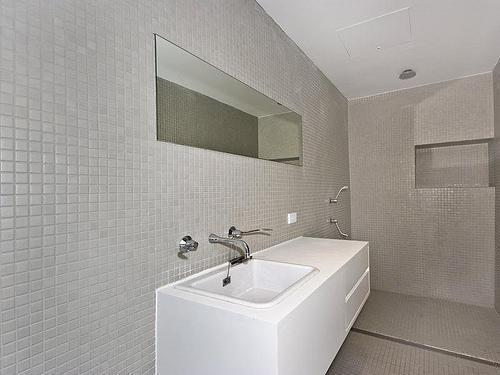Ducha: (322, 87, 499, 367)
Lavamanos: (179, 219, 321, 317)
